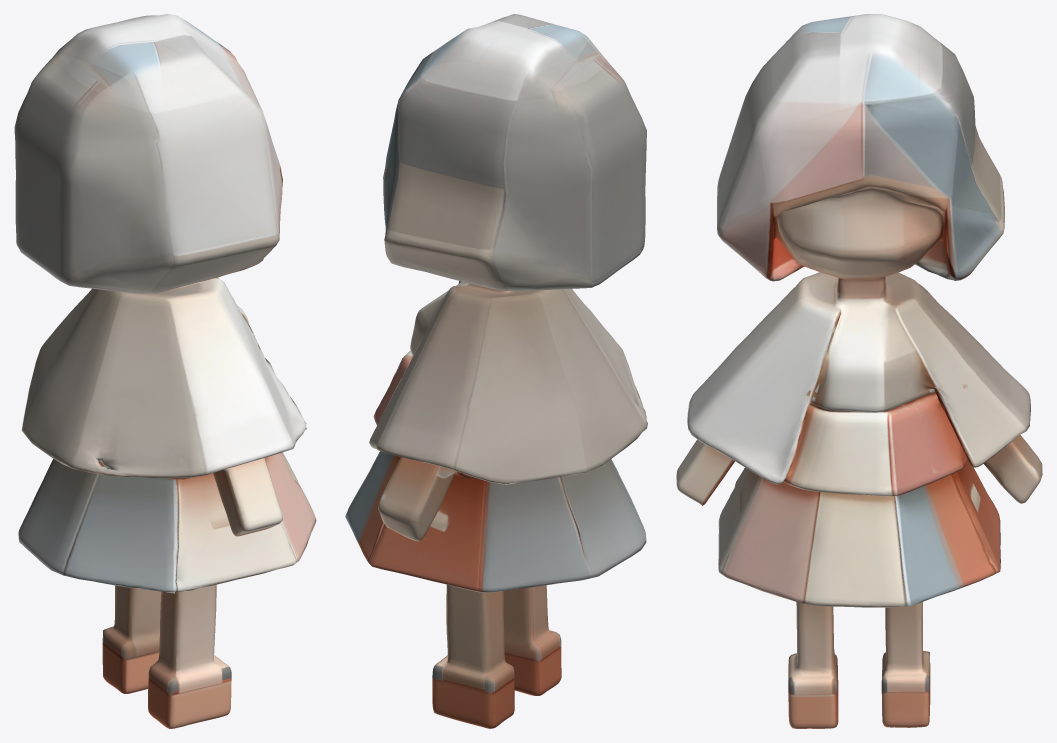
File: 低多边形娃娃3d模型.fbx
3 renders of one model, left to right at view 1: azimuth 30°, elevation 25°; view 2: azimuth 150°, elevation 25°; view 3: azimuth 270°, elevation 25°, orthographic.
Visible parts, largest first — view 1: tripo_node_57ec0edc; view 2: tripo_node_57ec0edc; view 3: tripo_node_57ec0edc.
Part boxes in pixels (x1=…): tripo_node_57ec0edc: x1=14, y1=14, x2=316, y2=728; tripo_node_57ec0edc: x1=345, y1=14, x2=647, y2=728; tripo_node_57ec0edc: x1=676, y1=14, x2=1042, y2=728.
Bounding box in the file's own units: 39.98 × 99.86 × 48.9.
Materials: 1 (1 with a texture image).
